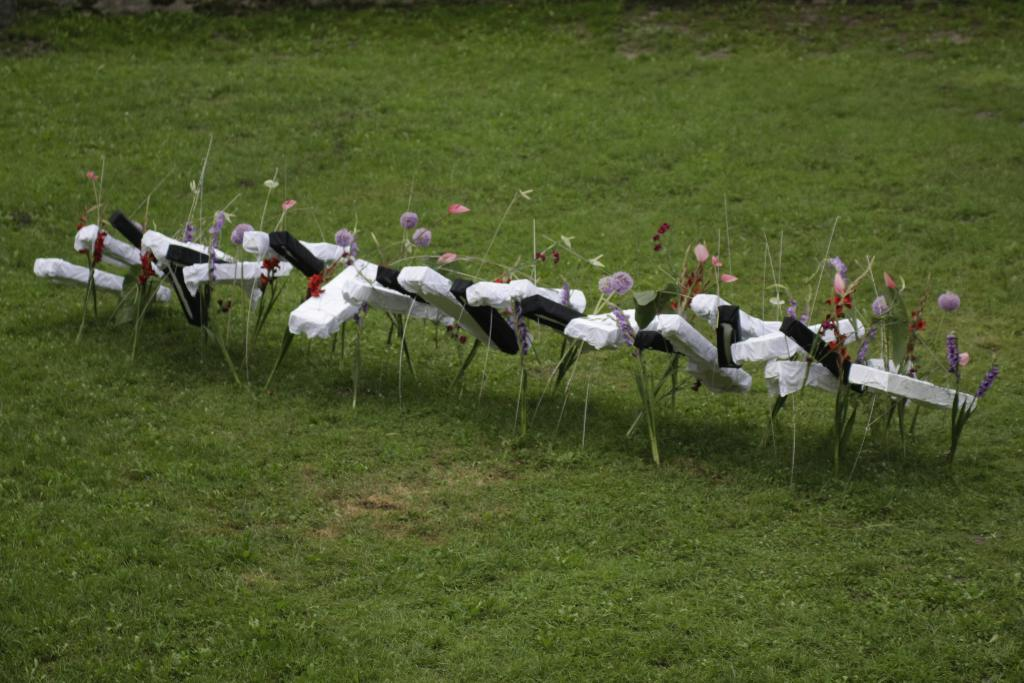person: (229, 222, 469, 348)
